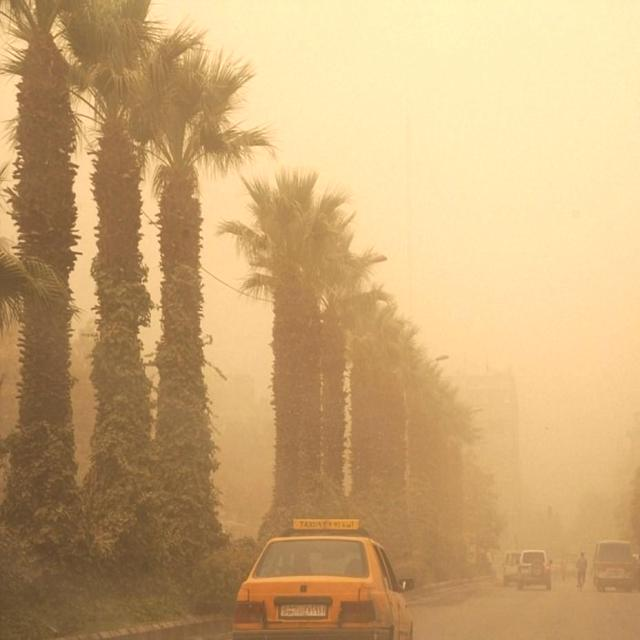Car: (229, 514, 418, 640), (516, 548, 554, 592)
Cycle: (576, 570, 586, 591)
Van: (591, 540, 637, 590)
